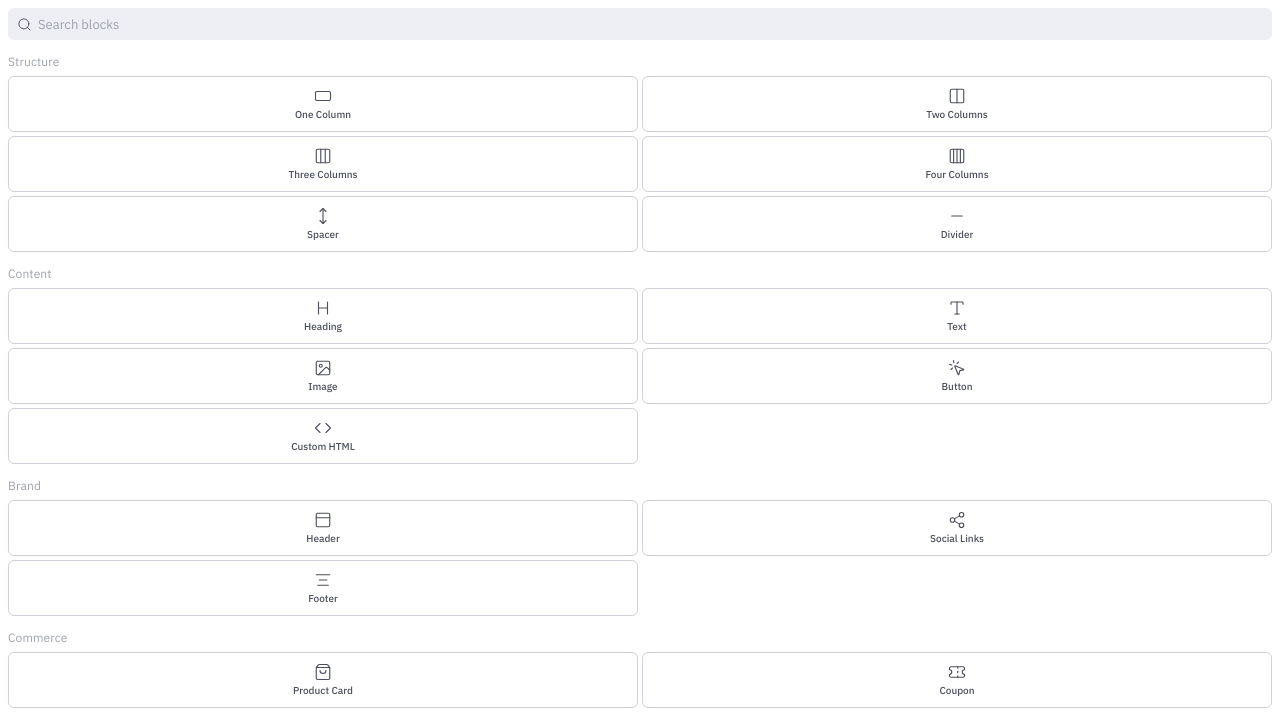
Test case: search filters by block label
Type "but" into the search field labelled "Search blocks".
click(652, 24); type("but")  # box left=38, top=11, right=1267, bottom=37
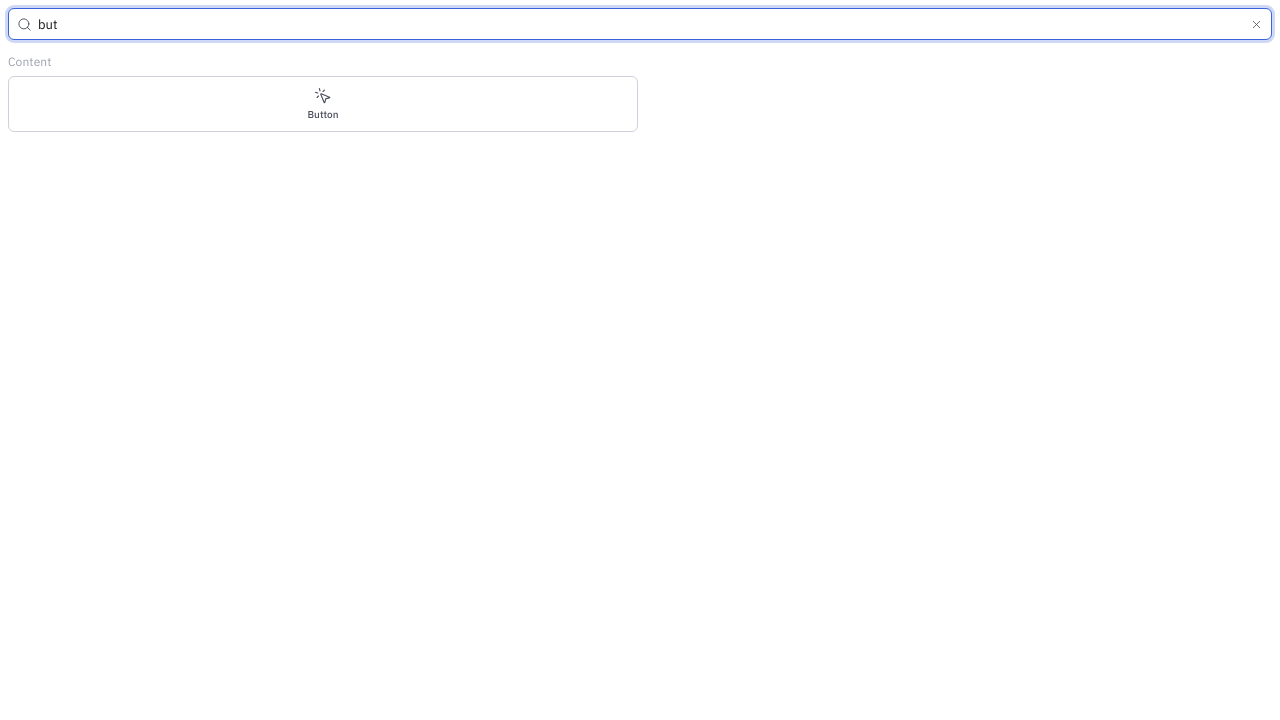
Expected: the button "Button" is shown, left=8, top=76, right=638, bottom=132
Result: the button "Coupon" is gone
Result: the heading "Structure" is gone
